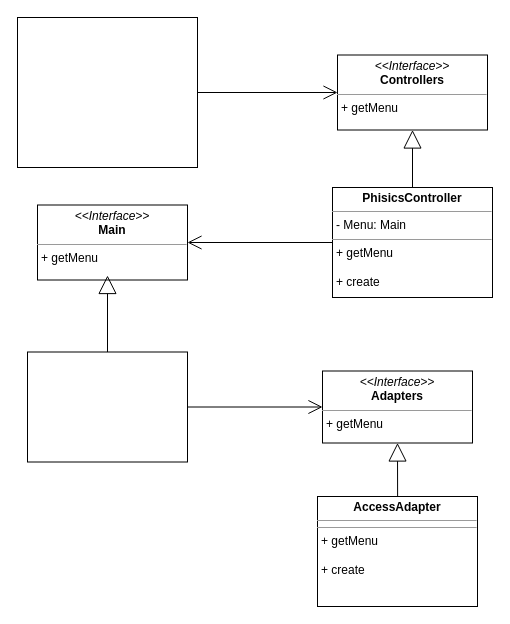
This 510x624 diagram has some shape labels left out. Here are the shapes that lost their labels. From the top down, the centre of each, then its label:
At [107,92]: "TForm1 - controller: PhisicsController + onButtonClick + MenuItemClick + open".
At [107,406]: "Menu - Adapter: Adapter + getMenu + create".
